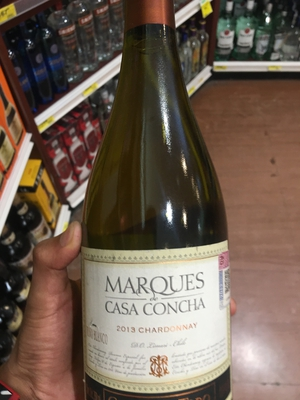marques de casa concha chardonnay: (51, 18, 250, 400)
